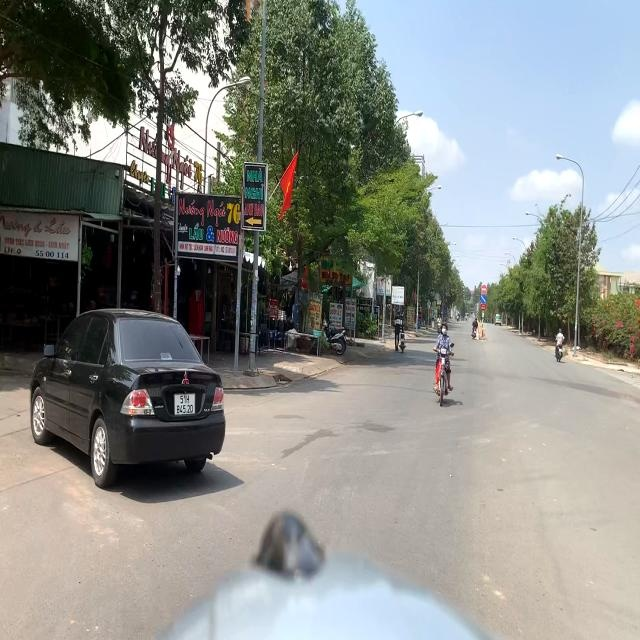bien_hieu_lenh: (481, 284, 487, 294), (481, 294, 486, 304)
